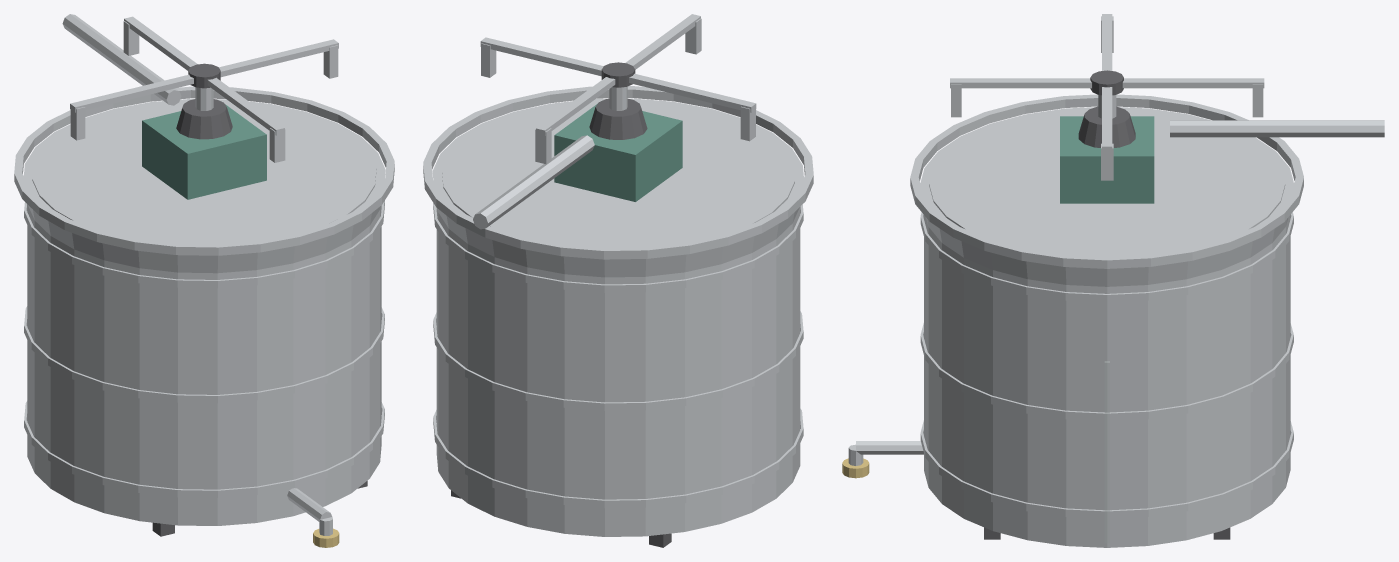
File: distillery-and-bonded-warehouse-wash-back-steel-3f143cd0__38673.glb
3 renders of one model, left to right at view 1: azimuth 30°, elevation 25°; view 2: azimuth 150°, elevation 25°; view 3: azimuth 270°, elevation 25°, orthographic. The views are drawn at different scales.
Parts seen in each view (by area): view 1: wash-back-steel-steel, wash-back-steel-paint, switcher/steel, wash-back-steel-iron, switcher/iron; view 2: wash-back-steel-steel, wash-back-steel-paint, switcher/steel, wash-back-steel-iron, switcher/iron; view 3: wash-back-steel-steel, wash-back-steel-paint, switcher/steel, wash-back-steel-iron, wash-back-steel-glass, switcher/iron.
Part boxes in pixels (x1,y1,x2,y2): wash-back-steel-steel: (14, 14, 394, 535); wash-back-steel-paint: (142, 104, 266, 199); switcher/steel: (70, 16, 338, 162); wash-back-steel-iron: (152, 99, 367, 536); switcher/iron: (188, 63, 220, 88); wash-back-steel-steel: (423, 86, 813, 536); wash-back-steel-paint: (554, 103, 682, 201); switcher/steel: (480, 14, 756, 164); wash-back-steel-iron: (451, 98, 671, 547); switcher/iron: (601, 62, 635, 87); wash-back-steel-steel: (848, 94, 1384, 547); wash-back-steel-paint: (1060, 116, 1154, 203); switcher/steel: (950, 14, 1264, 180); wash-back-steel-iron: (984, 106, 1230, 539); wash-back-steel-glass: (1105, 361, 1109, 542); switcher/iron: (1090, 70, 1123, 95).
Size of the model in its own units: 3.76 by 4.32 by 5.18.
